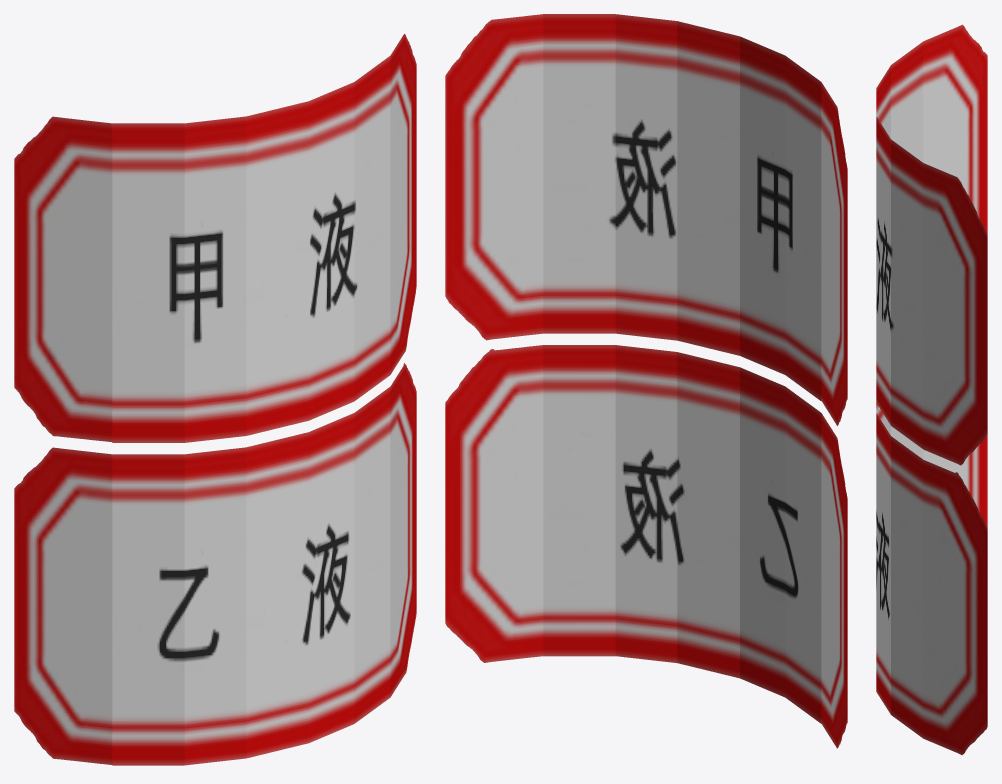
The picture shows the model from 3 angles, left to right: view 1: azimuth 30°, elevation 25°; view 2: azimuth 150°, elevation 25°; view 3: azimuth 270°, elevation 25°; orthographic projection. The views are drawn at different scales.
Parts seen in each view (by area): view 1: SM_标签1, SM_溶液瓶标签; view 2: SM_标签1, SM_溶液瓶标签; view 3: SM_标签1, SM_溶液瓶标签.
Boxes of the visible parts, left/top/right/bottom form: SM_标签1: left=14, top=34, right=416, bottom=442; SM_溶液瓶标签: left=14, top=363, right=416, bottom=765; SM_标签1: left=445, top=14, right=847, bottom=425; SM_溶液瓶标签: left=445, top=345, right=847, bottom=748; SM_标签1: left=876, top=24, right=987, bottom=465; SM_溶液瓶标签: left=876, top=403, right=987, bottom=754.
Bounding box in the file's own units: 0.052 × 0.0798 × 0.0139.
